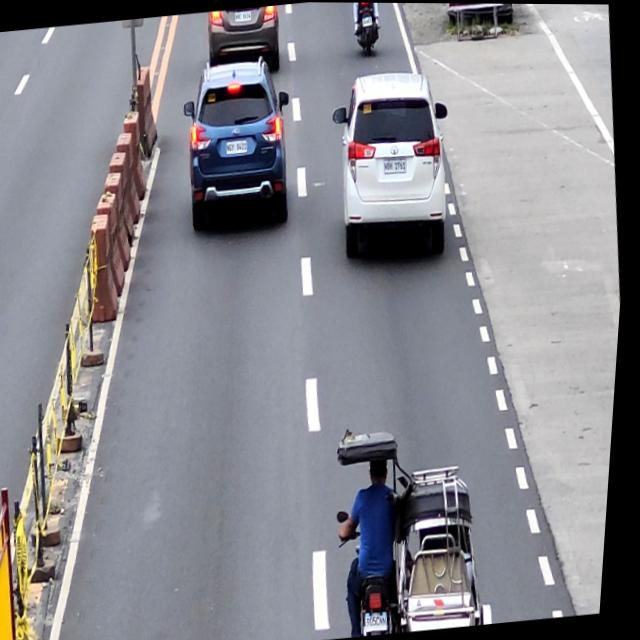Car: (327, 67, 455, 255), (176, 54, 296, 234), (202, 3, 287, 65)
License-Plate: (368, 605, 399, 633), (224, 137, 252, 159), (382, 155, 410, 175), (232, 7, 253, 23)
Motorcycle: (347, 2, 386, 53)
Tricycle: (325, 413, 505, 639)
